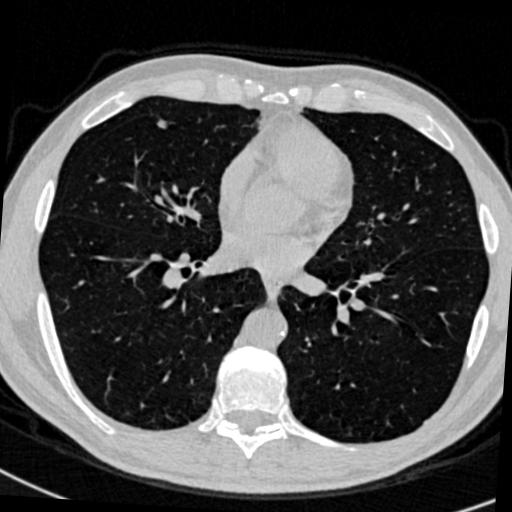nodule: (156, 118, 169, 131)
